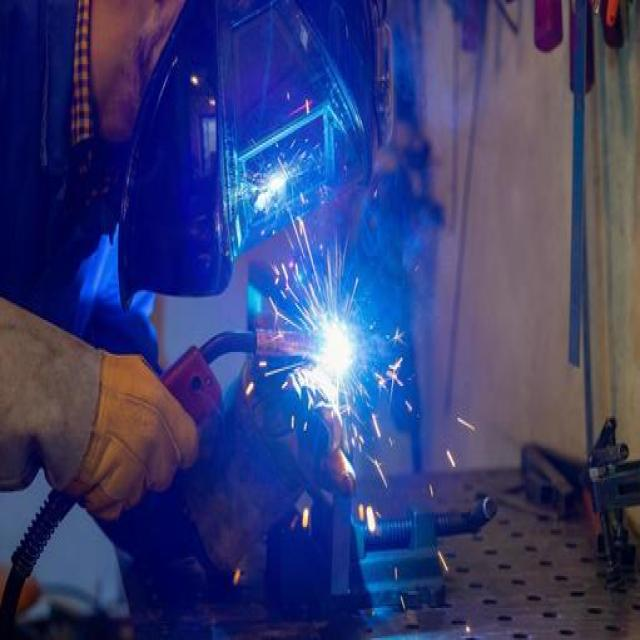welding: (314, 312, 360, 391)
